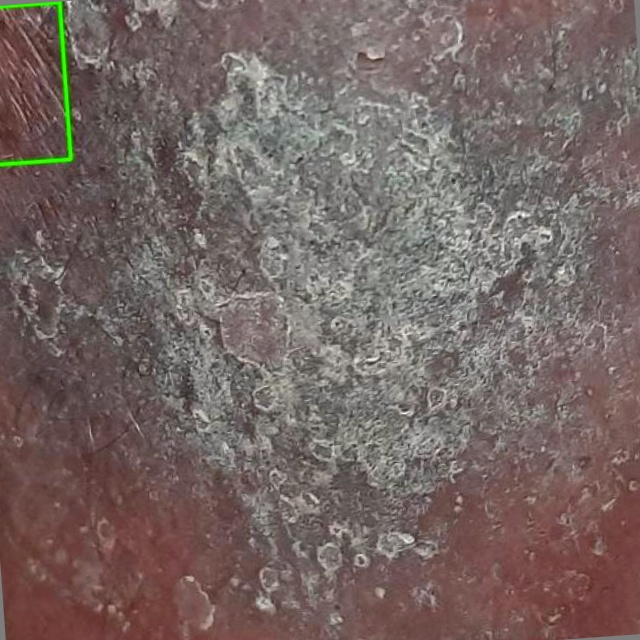Tinea Corporis: (0, 2, 70, 164)
